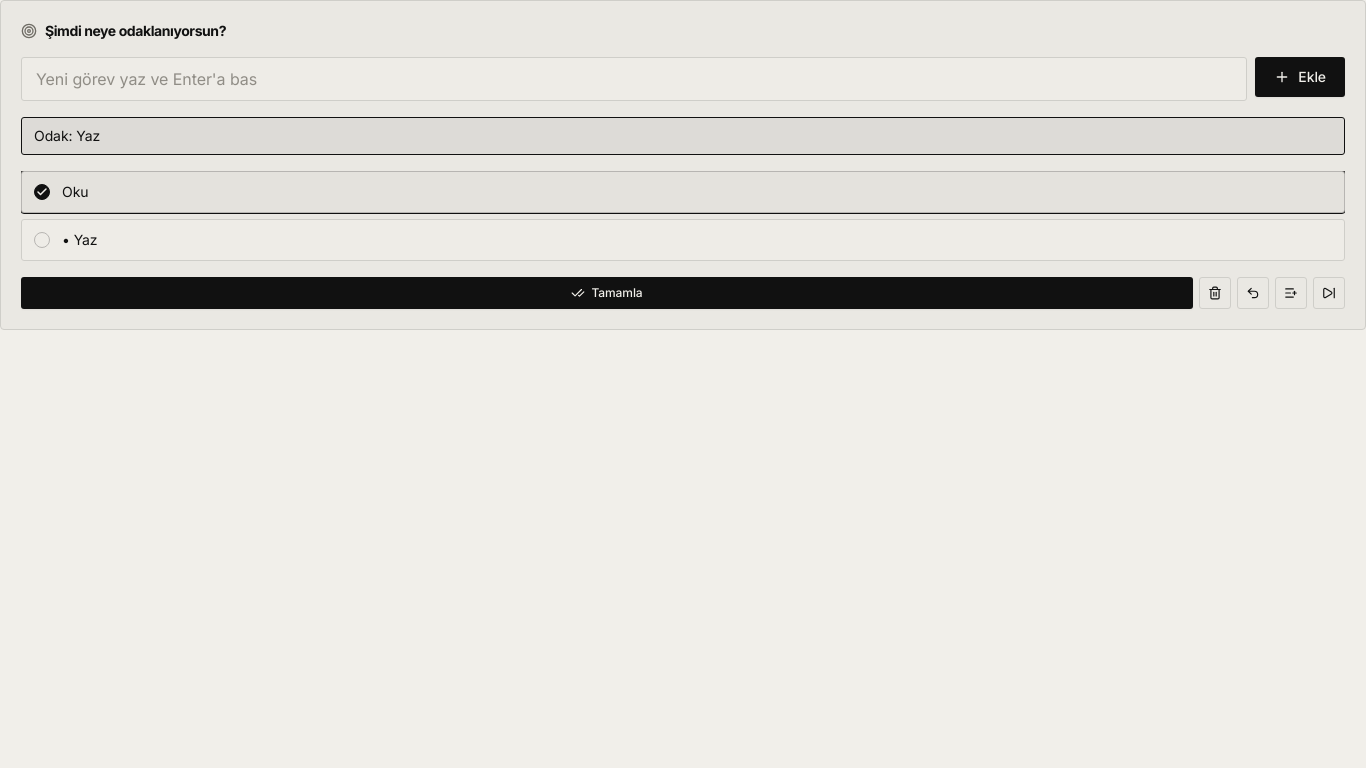
Scenario: TaskSection › deleting the selection opens the undo toast with undo and close controls
Click the button named "Sil": (1215,293) [1199,277,1231,309]
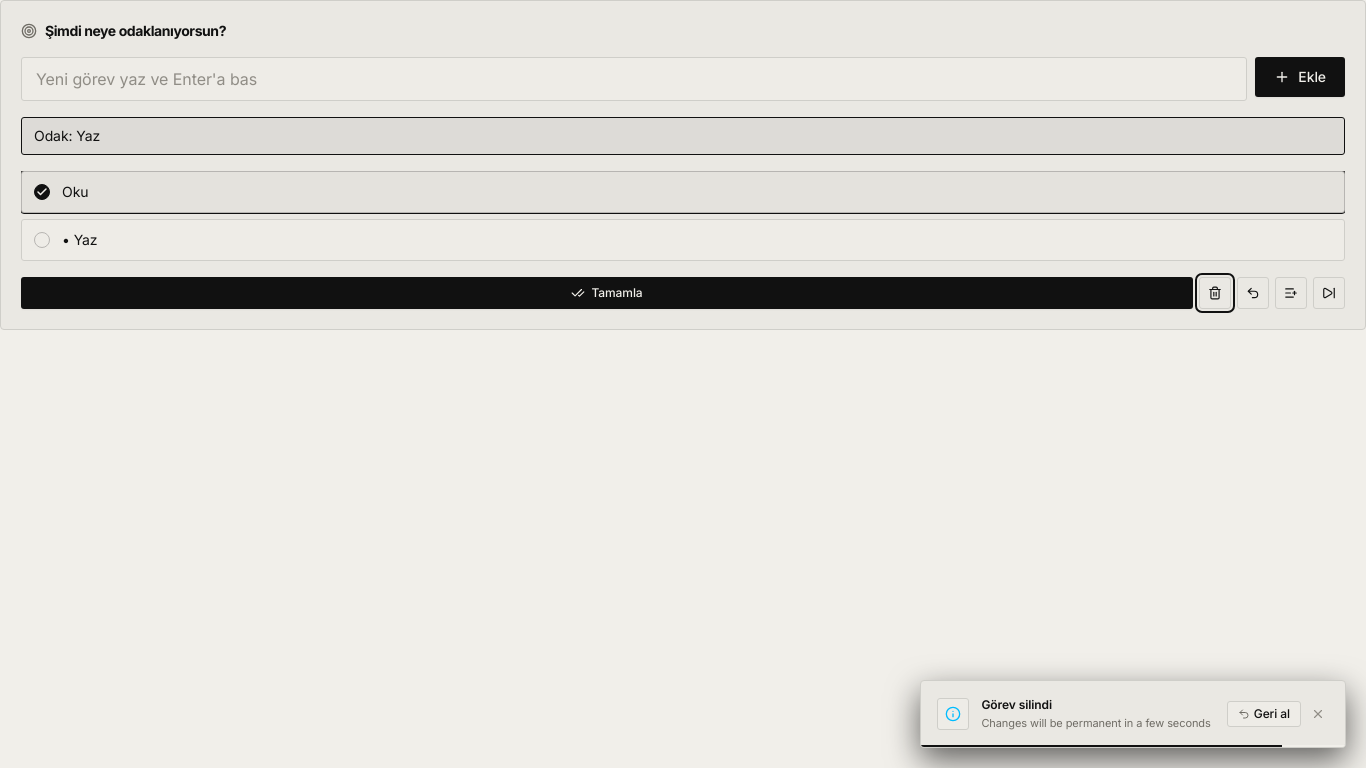
Now the text "Görev silindi" is shown, box [981,696,1052,712]
Now the button named "Close notification" is shown, box [1307,703,1329,725]
